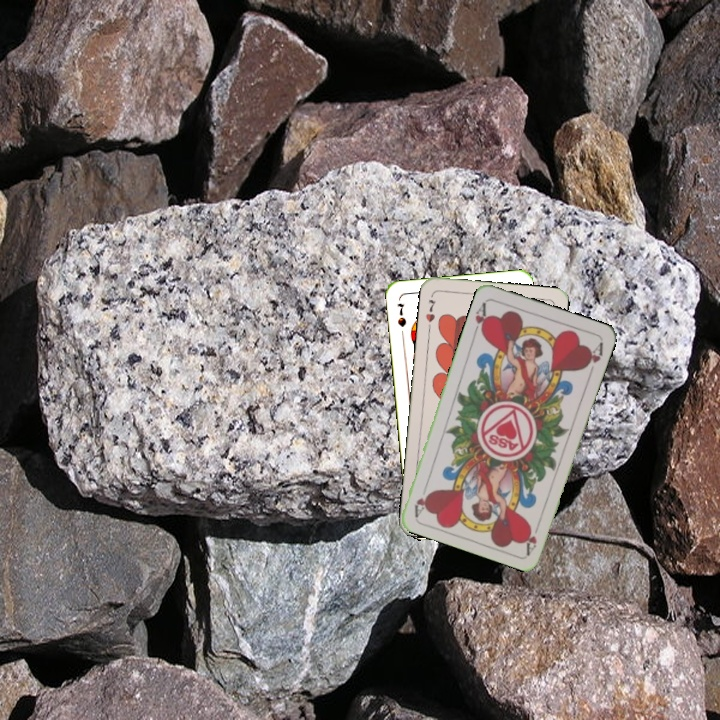H7: (421, 296, 438, 325)
HA: (521, 516, 544, 556), (469, 298, 491, 338)
S7: (393, 299, 409, 329)
